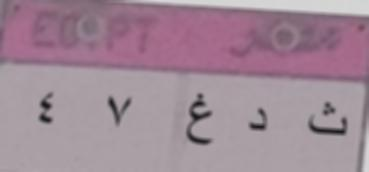4: (31, 84, 64, 136)
7: (103, 89, 138, 134)
daal: (241, 103, 274, 146)
ghayn: (180, 86, 221, 154)
thaa: (306, 93, 353, 154)
